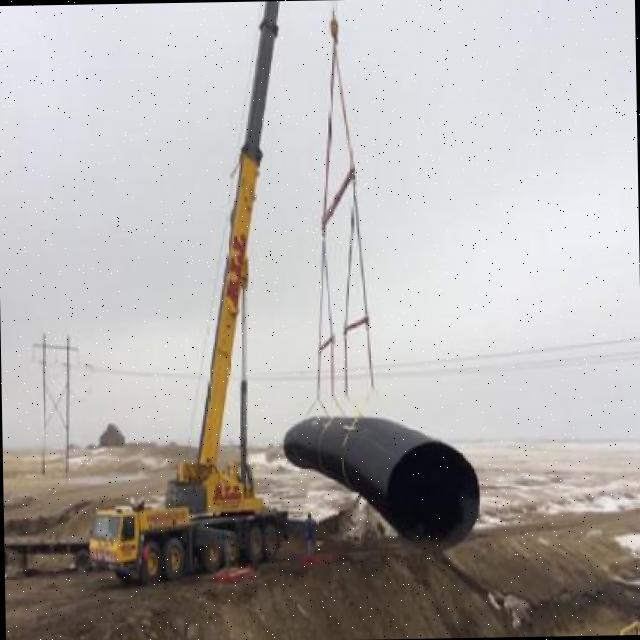Mobile Crane: (75, 1, 292, 585)
